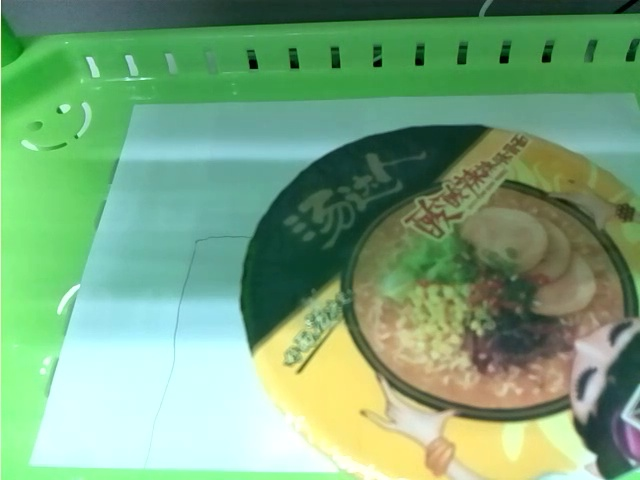noodles: (238, 118, 640, 480)
